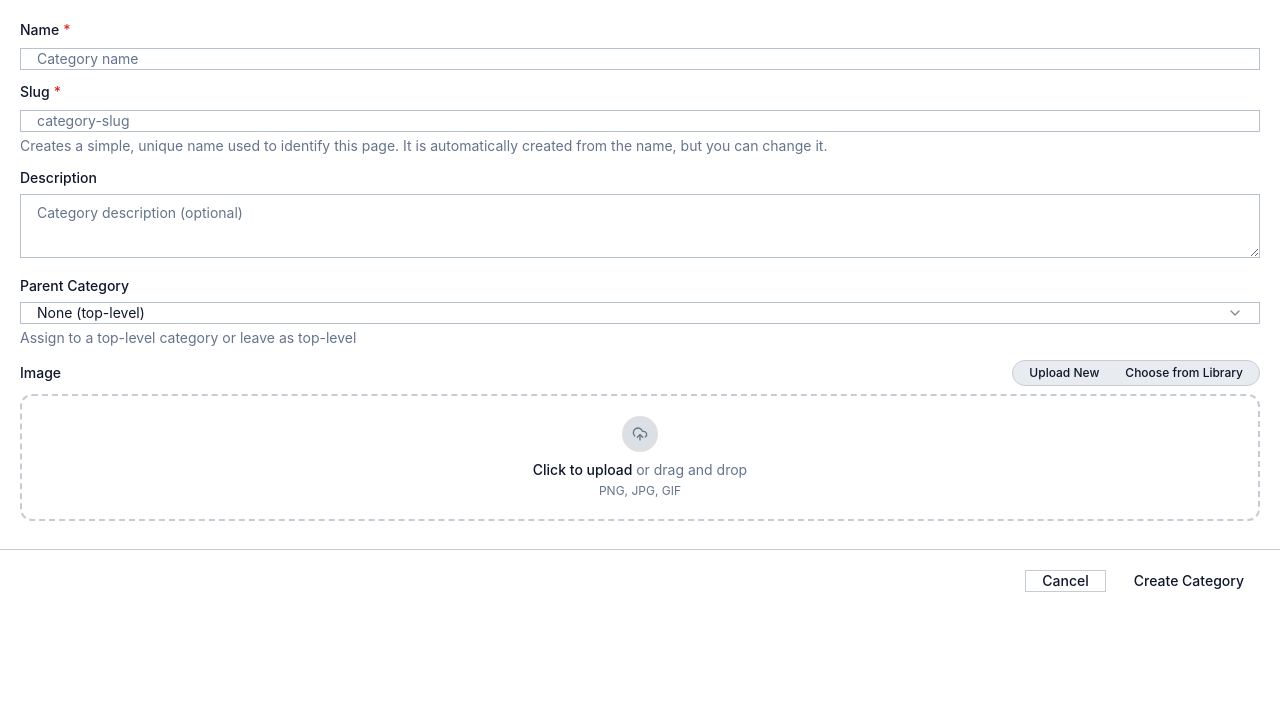
Test: CategoryForm library pagination › resets to page 1 when the search term changes
Click the button "Choose from Library": point(1184, 373) [1113,365,1255,381]
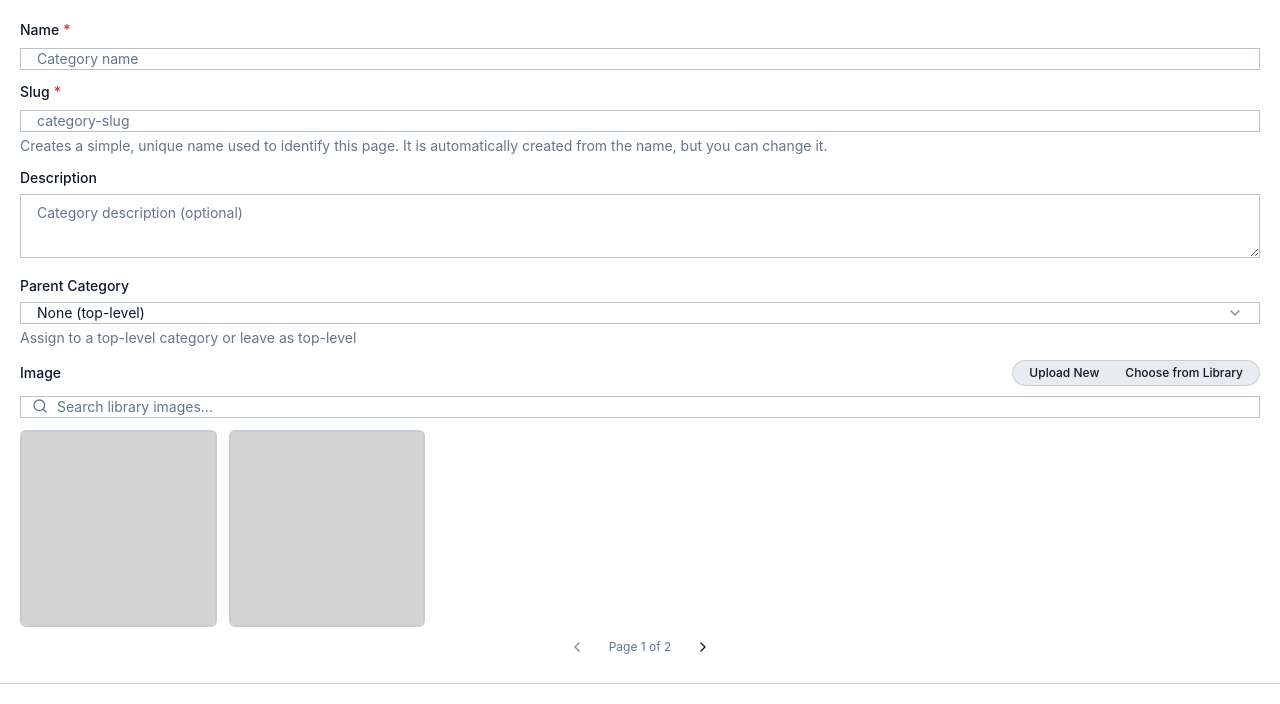
Click the button named "Next page": point(703, 647) [683,639,723,655]
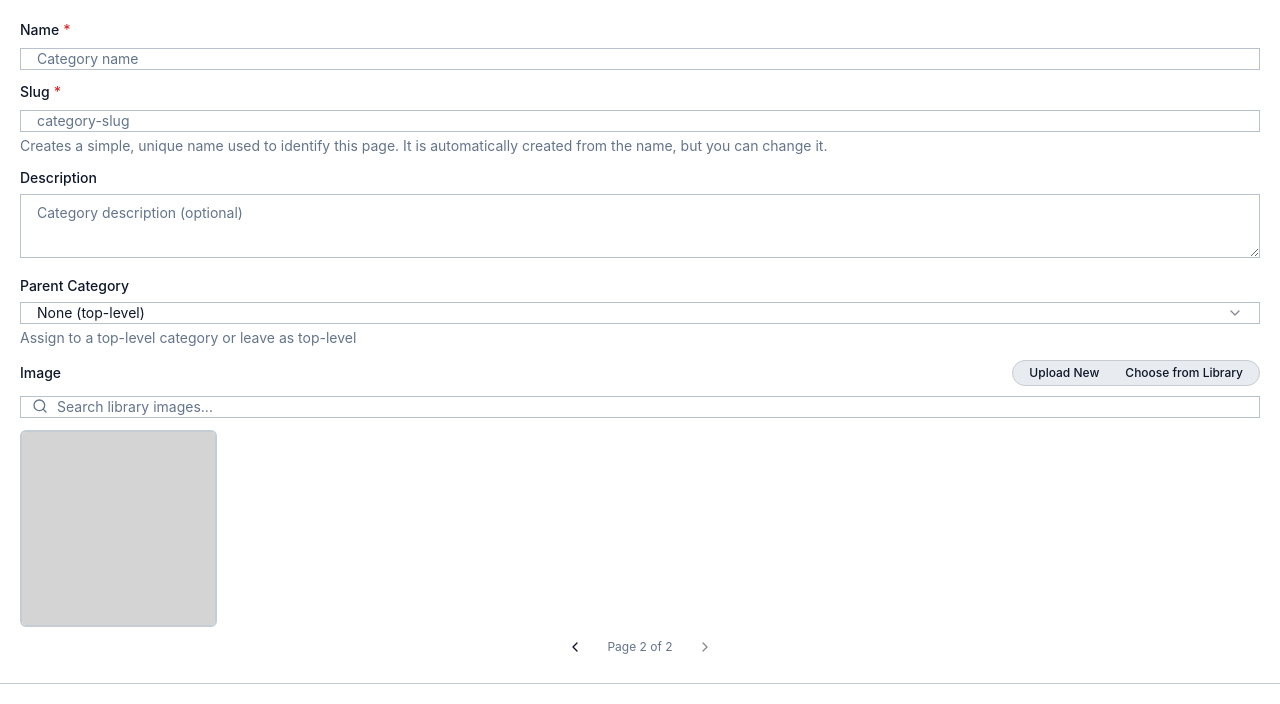
Check: the text "Page 2 of 2" is shown, box [607,639,673,655]
In the field with placeholder "Search library images...": point(640, 407) [20,396,1260,418], type "kiddies"
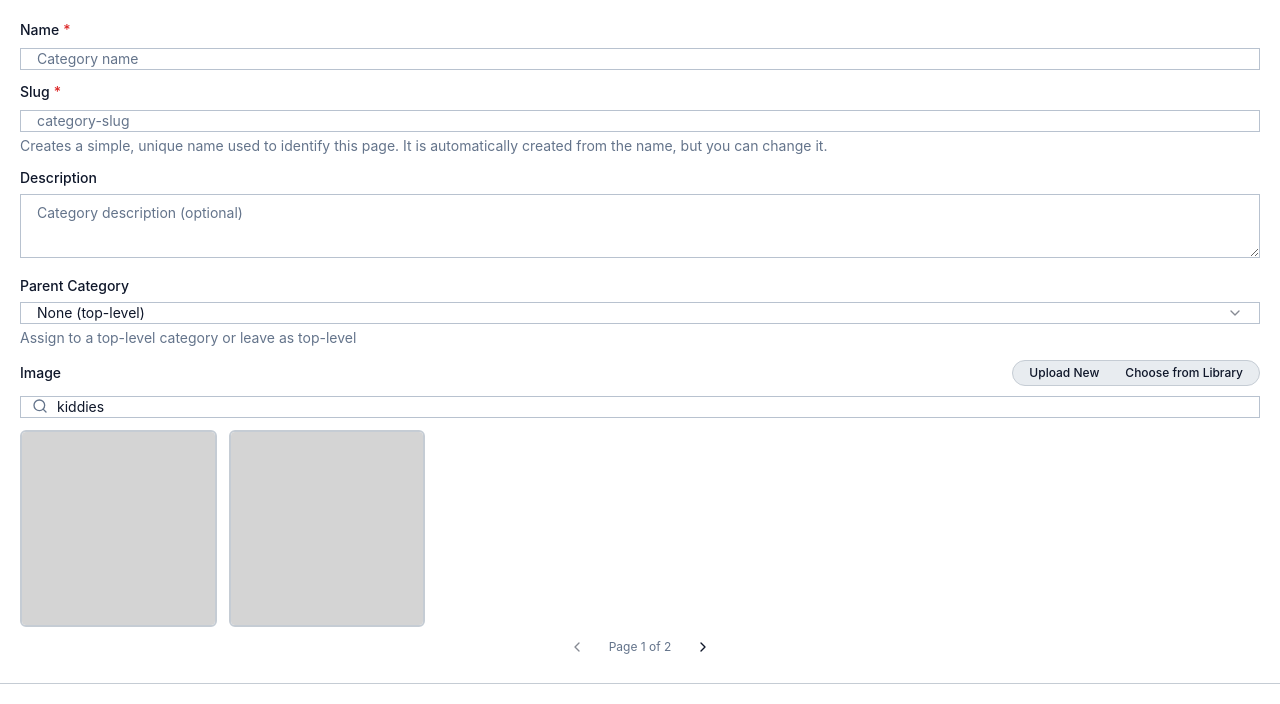
Check: the text "Page 1 of 2" is shown, box [609,639,671,655]
